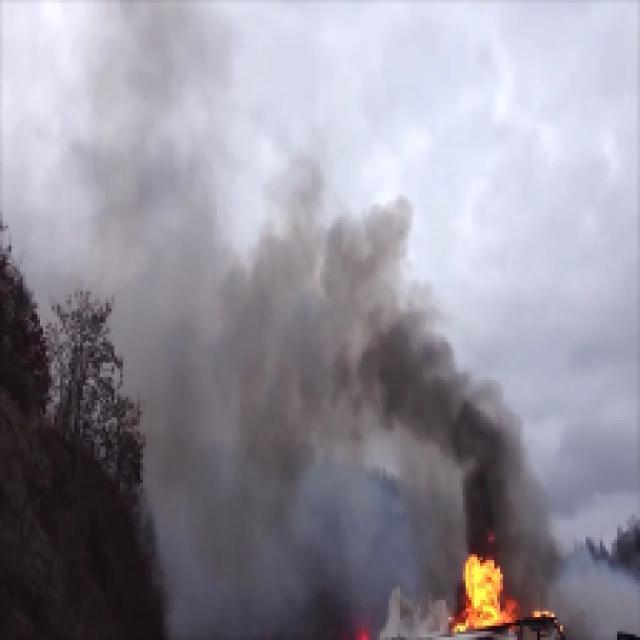Fire: (460, 556, 512, 632)
Smoke: (138, 266, 388, 640), (6, 4, 226, 260), (391, 317, 548, 538)
